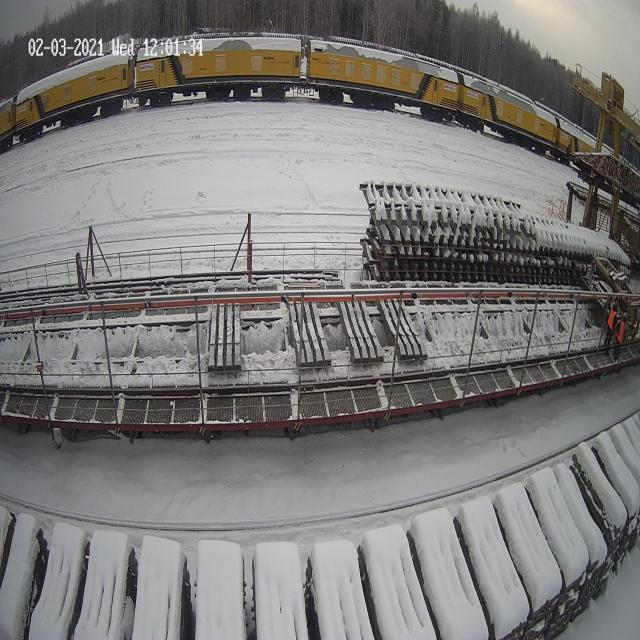Person: (613, 311, 628, 373), (604, 299, 619, 355)
